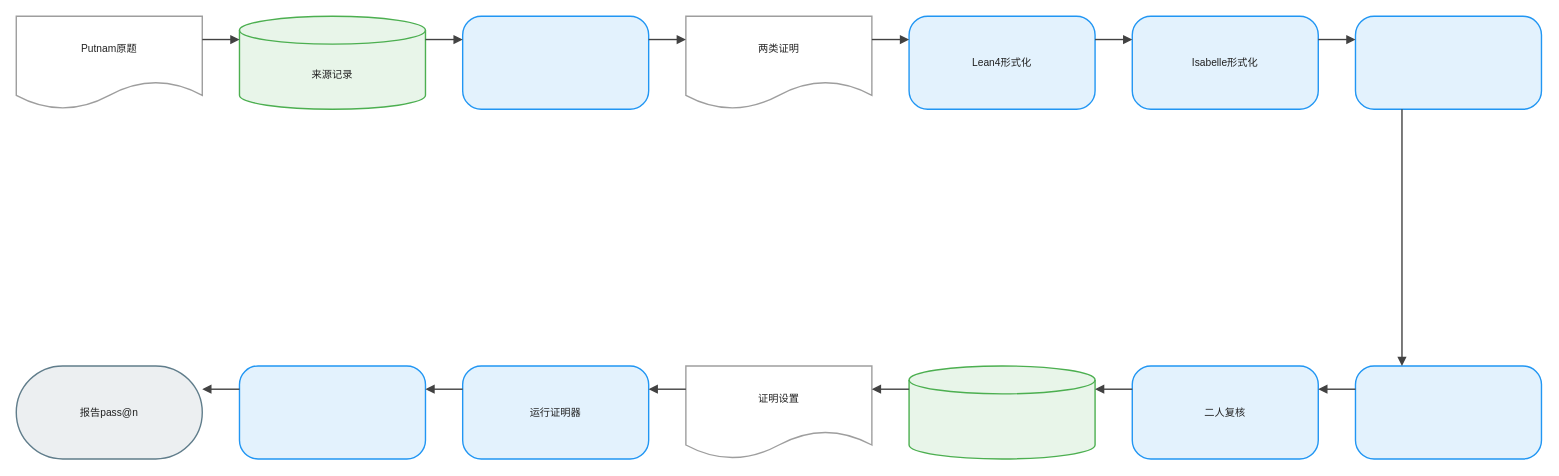
Some shapes in this 1559 by 476 pixel diagram are drawn without their labels. The shapes that lost their labels are listed below. From the top down, each one's centre as x and y in pixels, then its label:
At (x=555, y=62): "析出答案".
At (x=1448, y=62): "Coq形式化".
At (x=332, y=412): "认证证明".
At (x=1001, y=412): "冻结数据集".
At (x=1448, y=412): "对齐语言".
